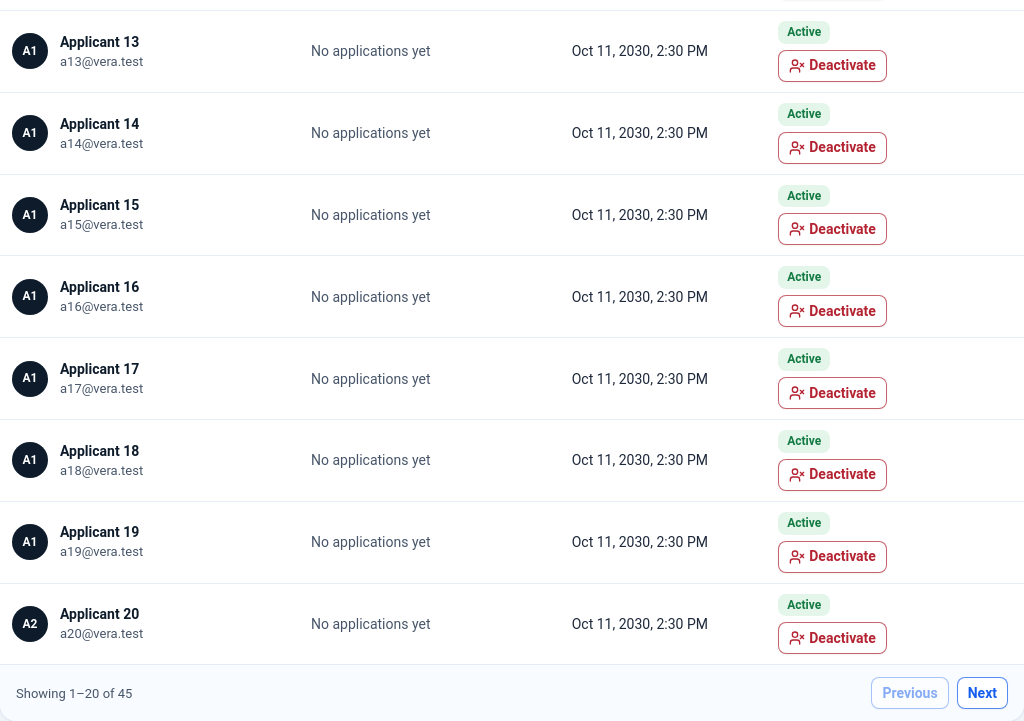
Applicant Management › pages through the server list with Previous and Next
This screenshot has width=1024, height=721.
(page scrolled)
Expected: the text "Showing 1–20 of 45" is shown, [16,684,132,703]
Expected: the button "Previous" is disabled, [871,677,949,709]
Click the button "Next": (982, 693) [957,677,1008,709]
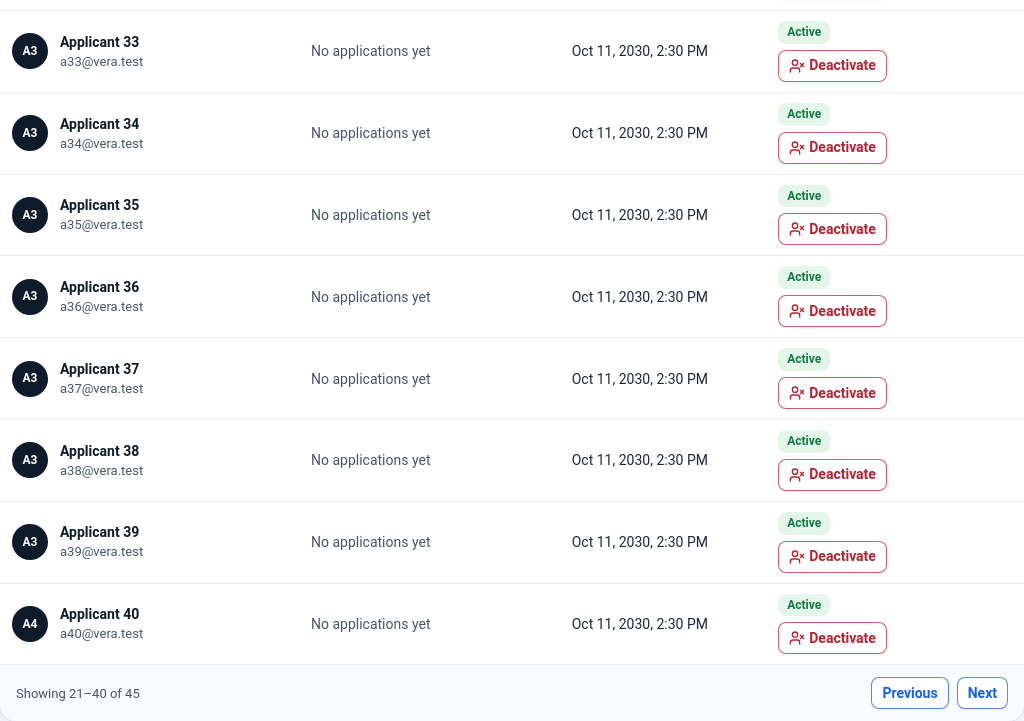
Now the text "Showing 21–40 of 45" is shown, box [16,684,140,703]
Click the button "Next": (982, 693) [957,677,1008,709]
(page scrolled)
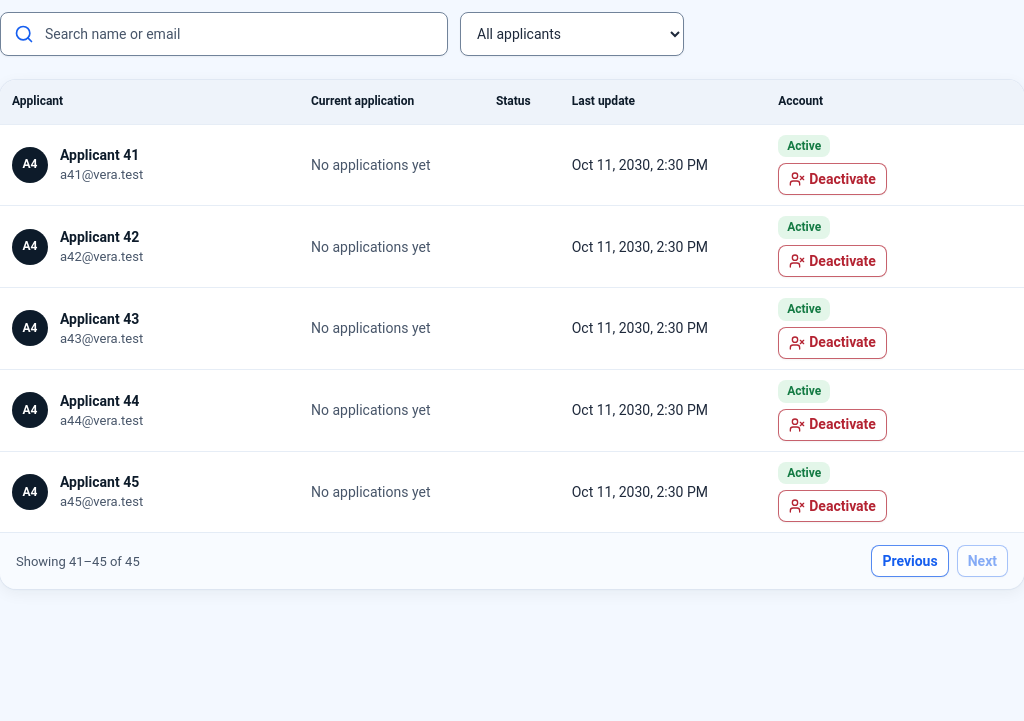
Now the text "Showing 41–45 of 45" is shown, box [16,552,140,571]
Now the button "Next" is disabled, box [957,546,1008,578]
Click the button "Previous": (910, 562) [871,546,949,578]
(page scrolled)
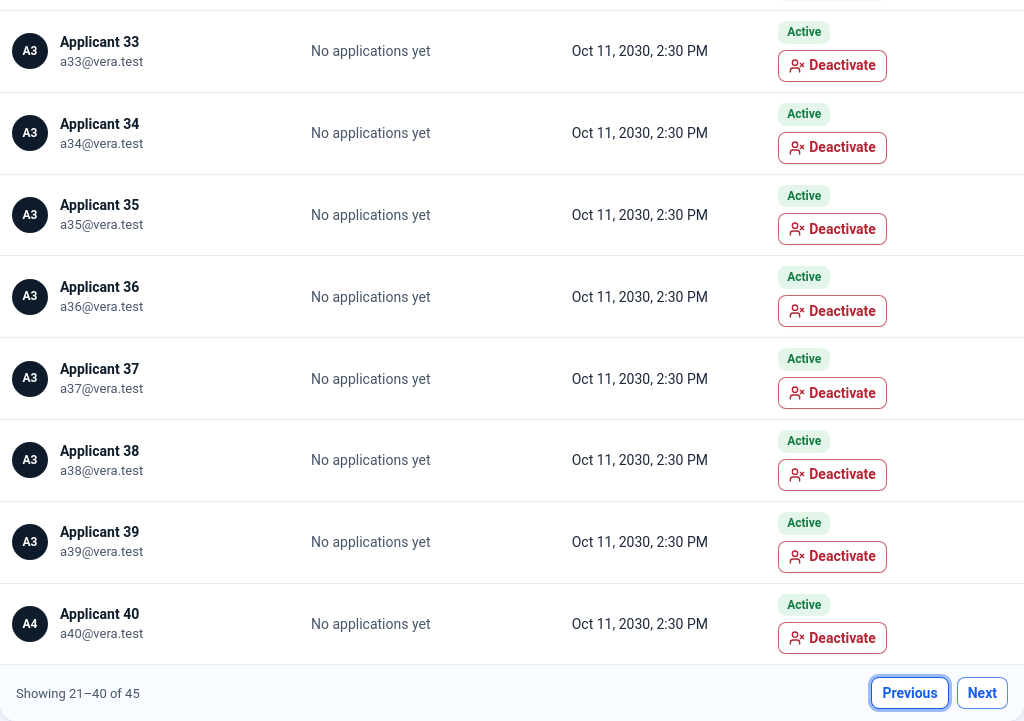
Now the button "Previous" is enabled, box [871,677,949,709]
Now the text "Showing 21–40 of 45" is shown, box [16,684,140,703]
